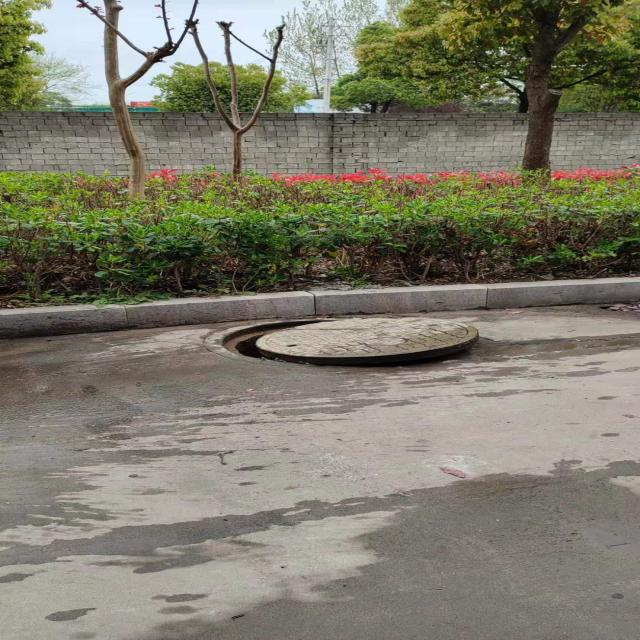Lose: (201, 314, 483, 369)
